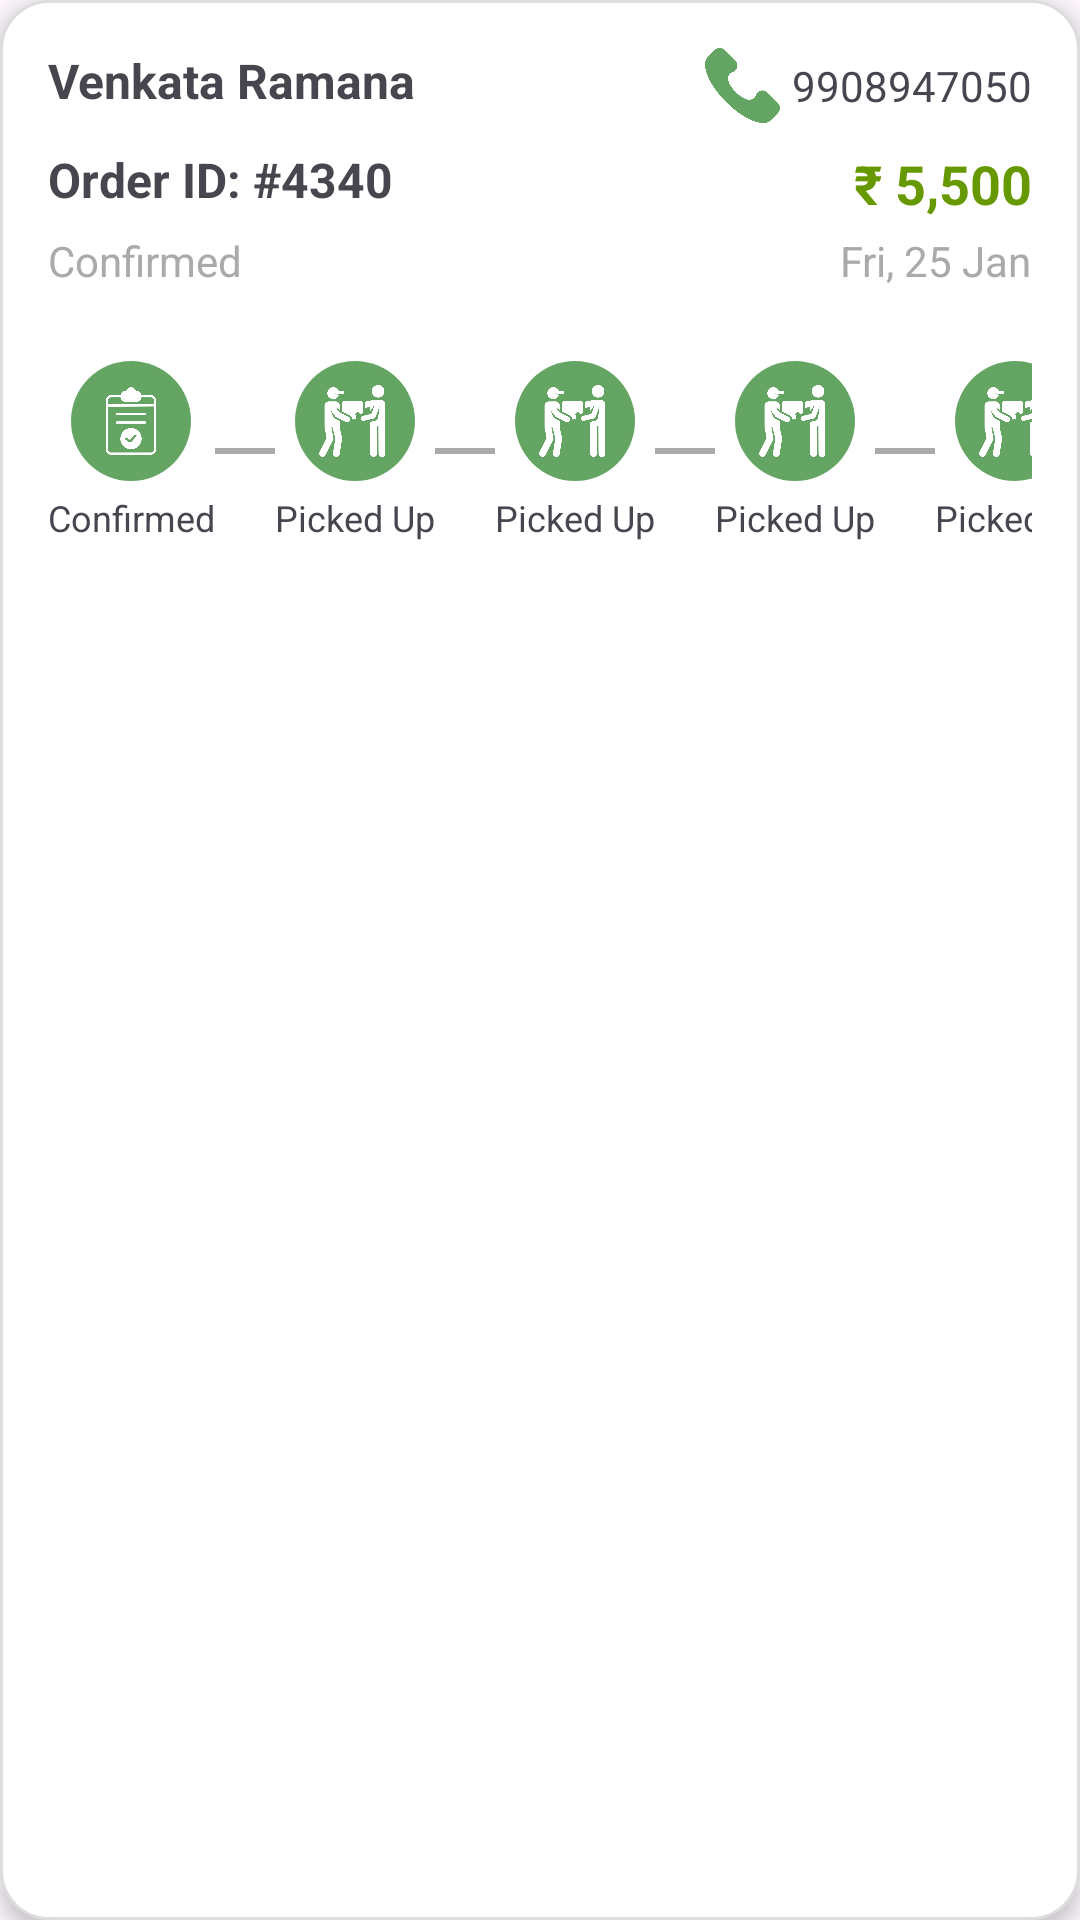

Screen size 1080 x 1920. Icon name, then its center in pixels as (x,y):
phonecall: (742,85)
